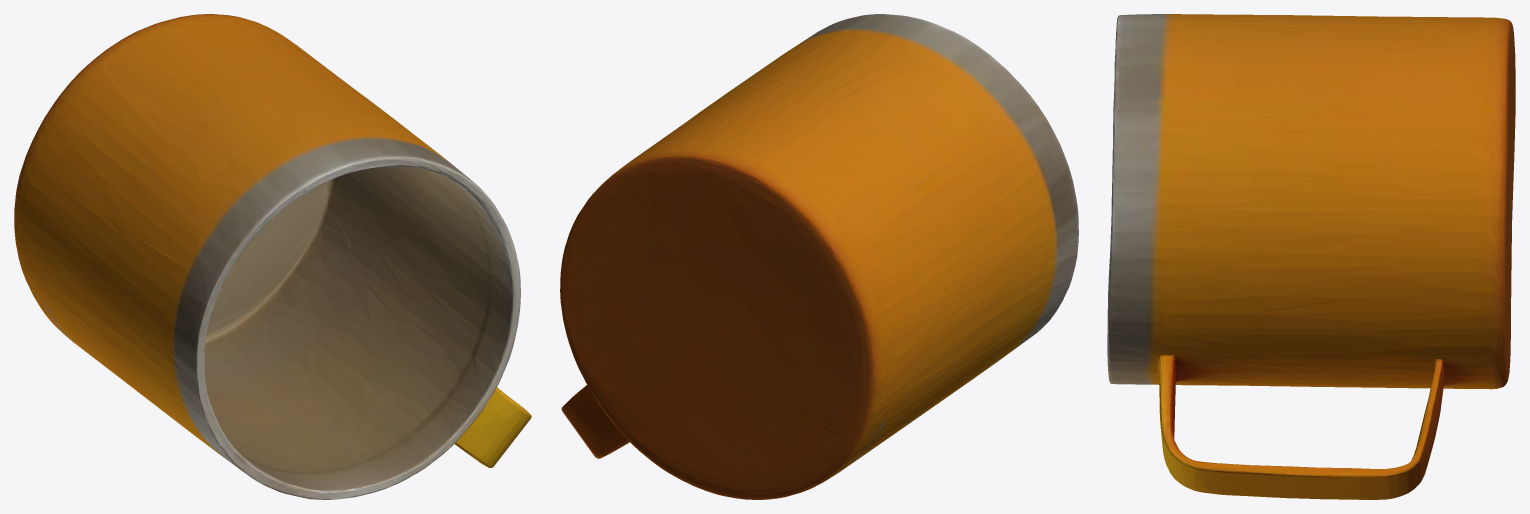
File: mug9.glb
3 renders of one model, left to right at view 1: azimuth 30°, elevation 25°; view 2: azimuth 150°, elevation 25°; view 3: azimuth 270°, elevation 25°, orthographic.
Parts seen in each view (by area): view 1: geometry_0; view 2: geometry_0; view 3: geometry_0.
Part boxes in pixels (left/top/right/bottom): geometry_0: left=14, top=14, right=531, bottom=499; geometry_0: left=560, top=14, right=1078, bottom=499; geometry_0: left=1107, top=14, right=1515, bottom=499.
Size of the model in its own units: 0.0841 by 0.0809 by 0.0784.
Materials: 1 (1 with a texture image).
